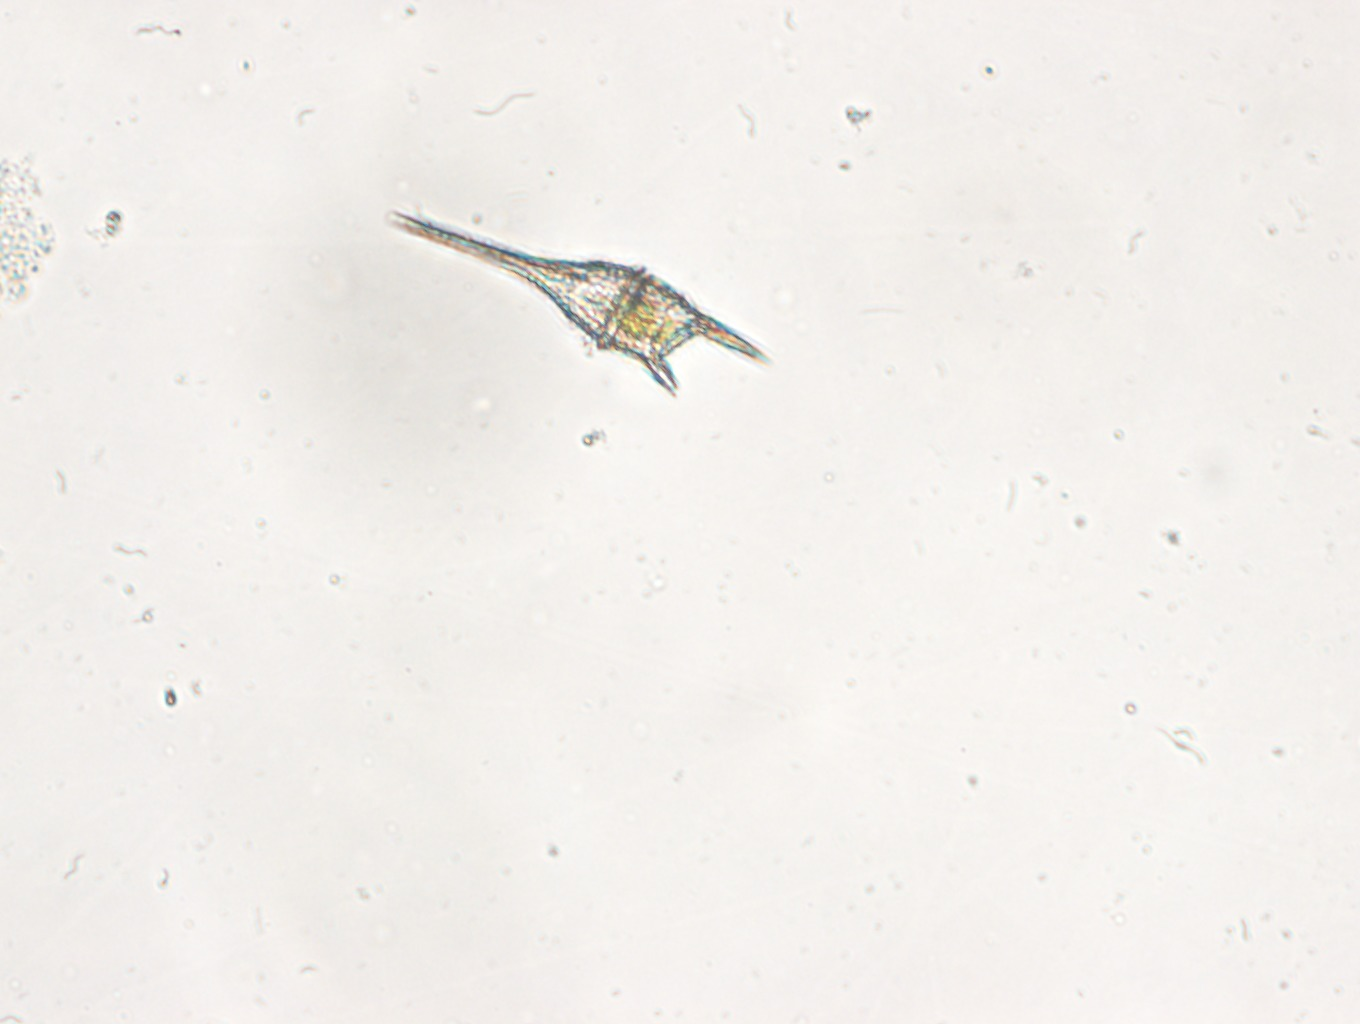ceratium furca: (381, 207, 775, 395)
